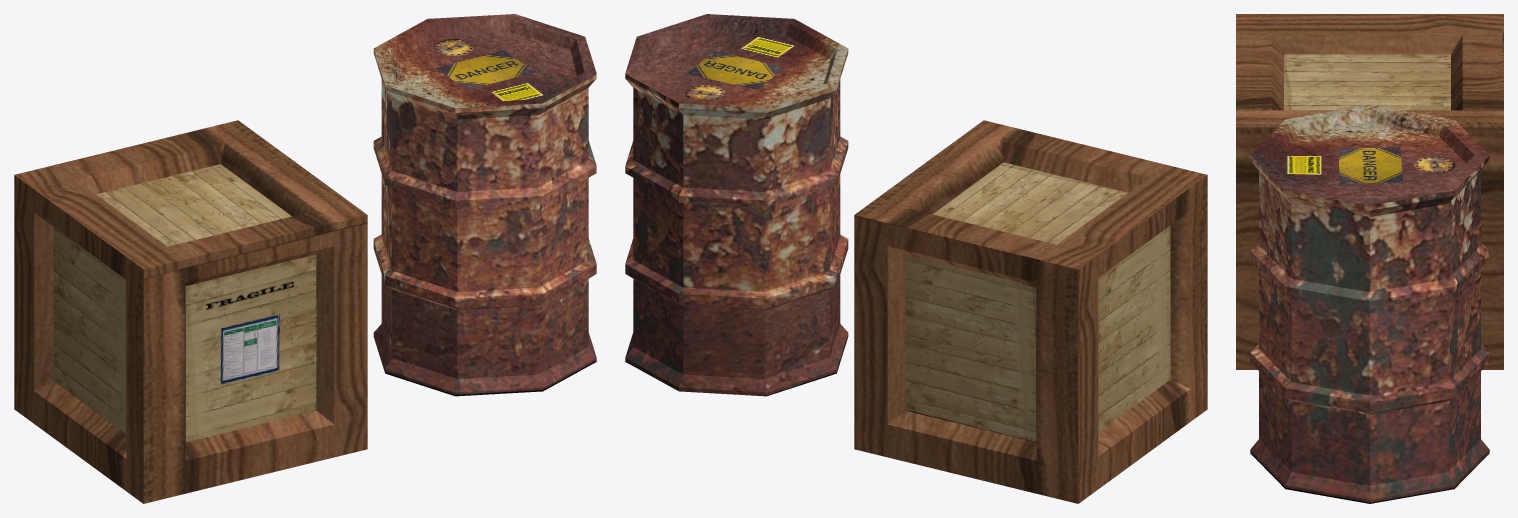
The model's file is crate and barrel.obj.
3 renders of one model, left to right at view 1: azimuth 30°, elevation 25°; view 2: azimuth 150°, elevation 25°; view 3: azimuth 270°, elevation 25°, orthographic. The views are drawn at different scales.
Visible parts, largest first — view 1: crate_barrel; view 2: crate_barrel; view 3: crate_barrel.
Boxes of the visible parts, left/top/right/bottom form: crate_barrel: left=14, top=14, right=596, bottom=503; crate_barrel: left=625, top=14, right=1207, bottom=503; crate_barrel: left=1236, top=14, right=1503, bottom=503.
Bounding box in the file's own units: 8.21 × 4.59 × 3.63.
